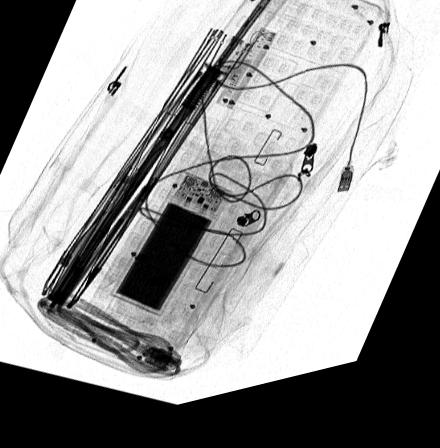Powerbank: (108, 177, 231, 324)
